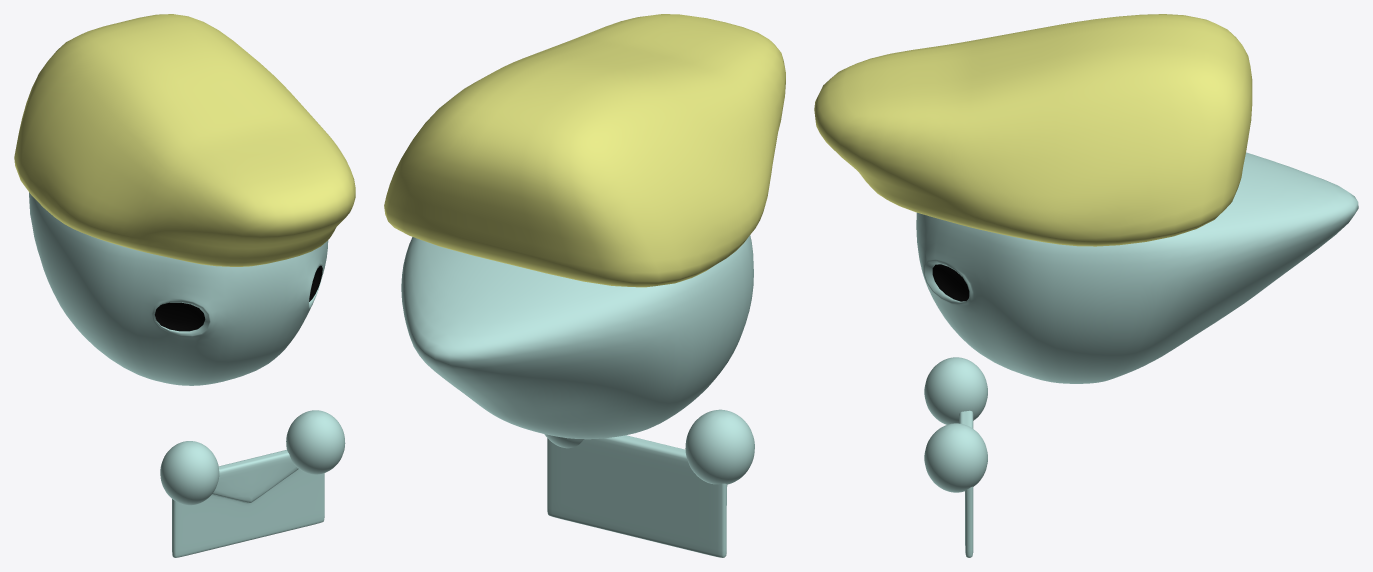
Rendered from savepoint.fbx.
3 renders of one model, left to right at view 1: azimuth 30°, elevation 25°; view 2: azimuth 150°, elevation 25°; view 3: azimuth 270°, elevation 25°, orthographic. The views are drawn at different scales.
Parts seen in each view (by area): view 1: pCube2, pSphere4; view 2: pCube2, pSphere4; view 3: pCube2, pSphere4.
Part boxes in pixels (x1=…): pCube2: x1=14, y1=14, x2=355, y2=385; pSphere4: x1=160, y1=410, x2=345, y2=557; pCube2: x1=384, y1=14, x2=785, y2=439; pSphere4: x1=544, y1=409, x2=754, y2=557; pCube2: x1=814, y1=14, x2=1358, y2=383; pSphere4: x1=924, y1=357, x2=987, y2=557.
Bounding box in the file's own units: 38.39 × 63.38 × 65.28.
